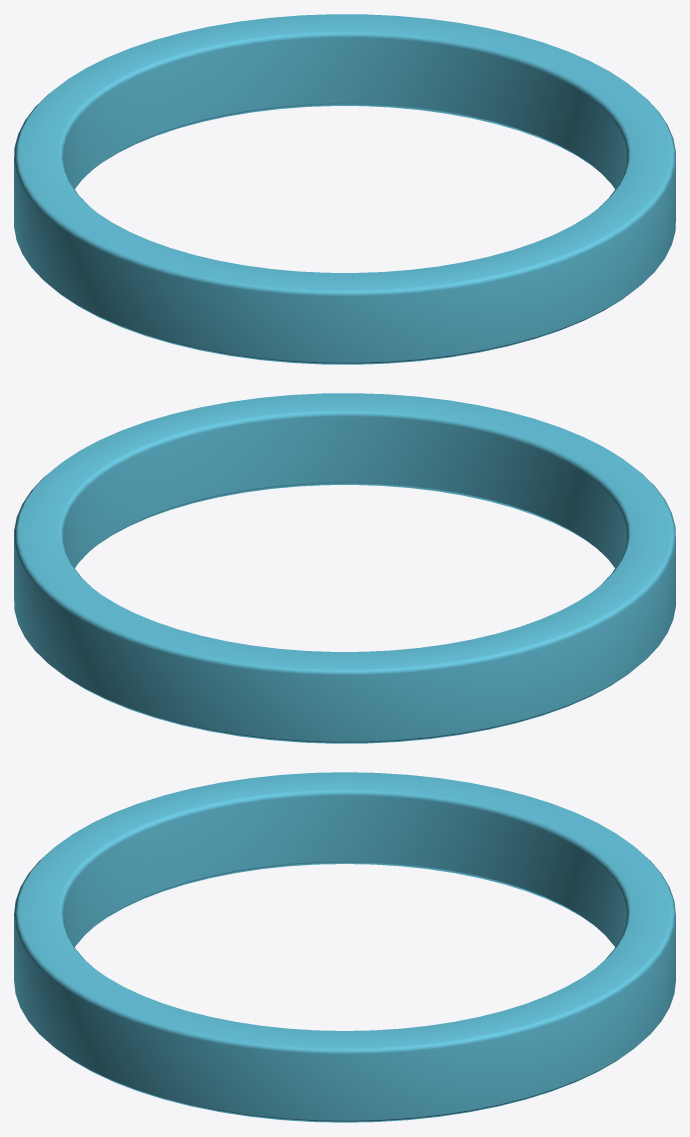
The picture shows the model from 3 angles, top to bottom: view 1: azimuth 30°, elevation 25°; view 2: azimuth 150°, elevation 25°; view 3: azimuth 270°, elevation 25°; orthographic projection.
Visible parts, largest first — view 1: seal_body; view 2: seal_body; view 3: seal_body.
Boxes of the visible parts, x1,y1,x2,y2 form: seal_body: (14, 14, 675, 364); seal_body: (14, 393, 675, 743); seal_body: (14, 772, 675, 1122).
Bounding box in the file's own units: 0.127 × 0.0159 × 0.127.
